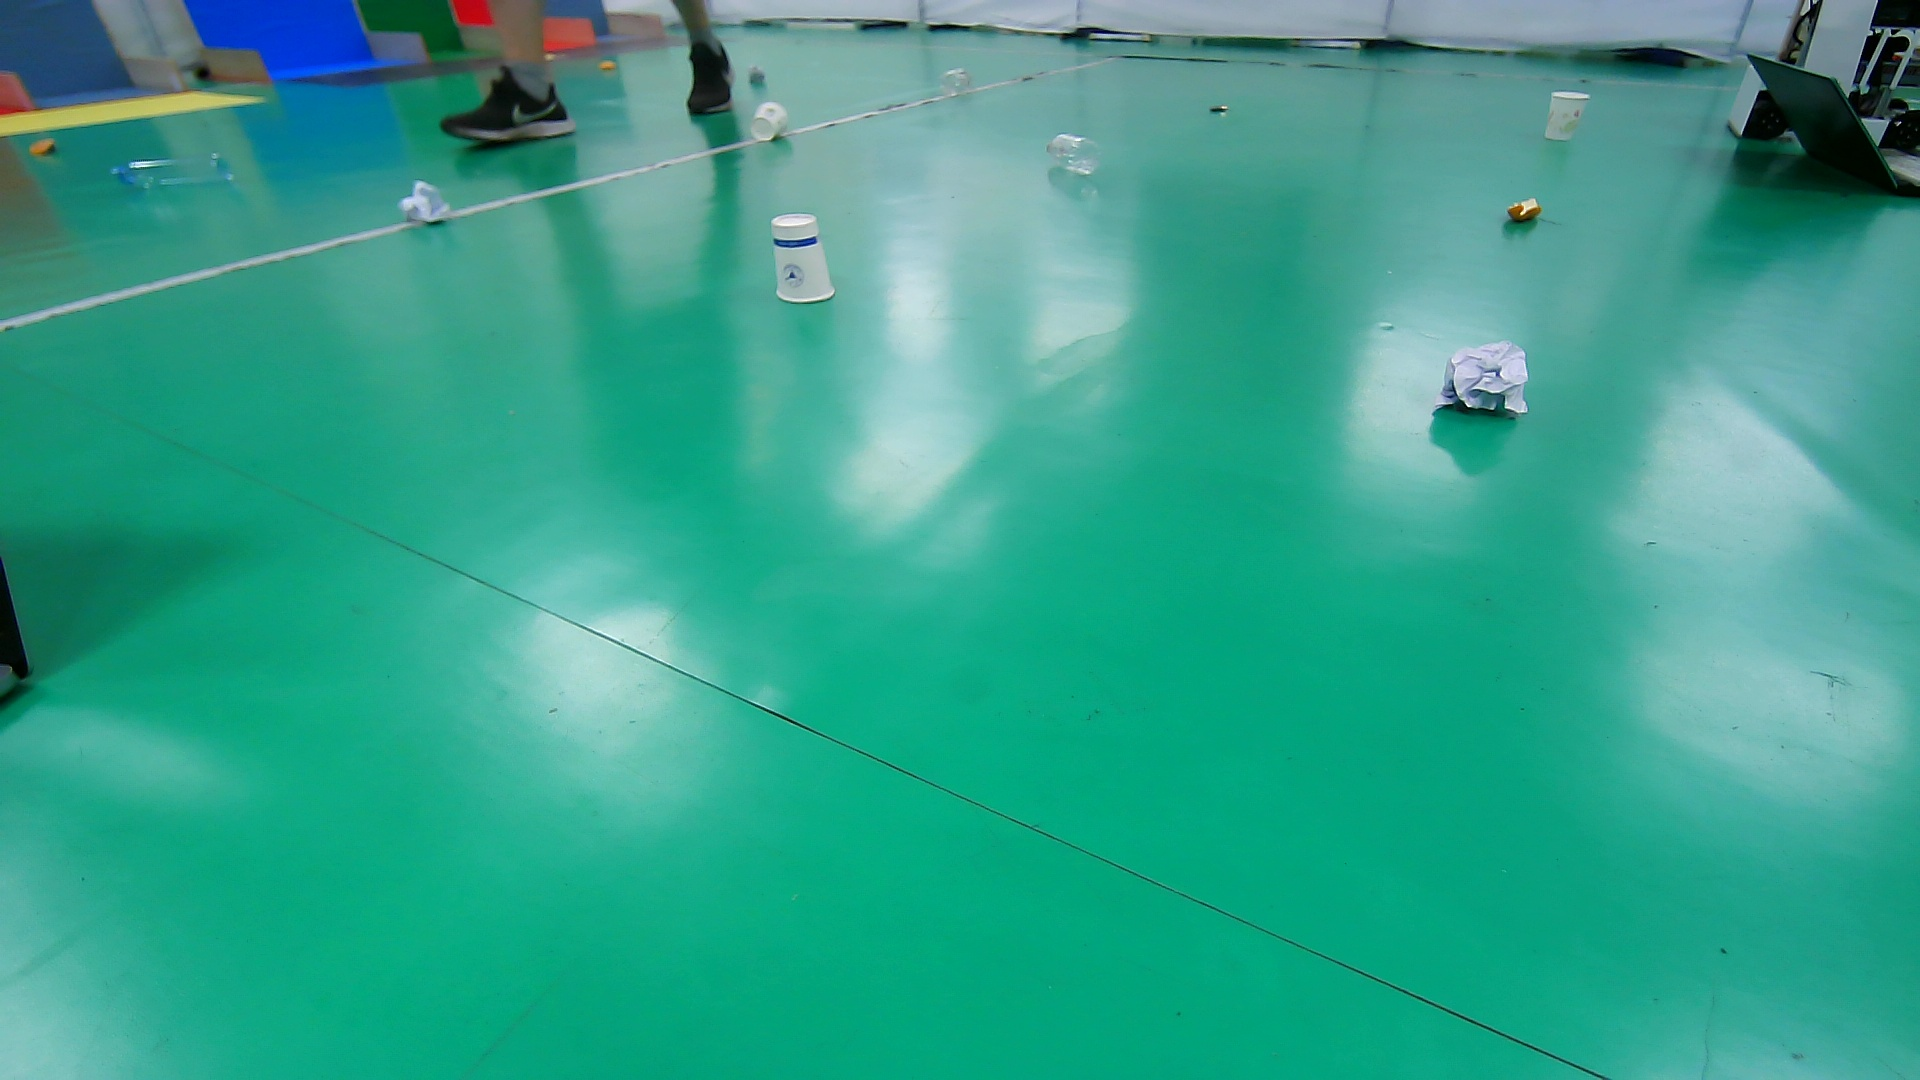battery: (1203, 98, 1236, 117)
bottle: (108, 149, 237, 196), (1044, 131, 1102, 178), (938, 65, 975, 99)
orangepeel: (21, 133, 65, 164), (1501, 195, 1545, 224), (593, 55, 622, 75)
papercup: (767, 210, 840, 305), (1542, 88, 1592, 144), (749, 98, 789, 146)
spitball: (1436, 336, 1530, 419), (396, 178, 452, 228)
